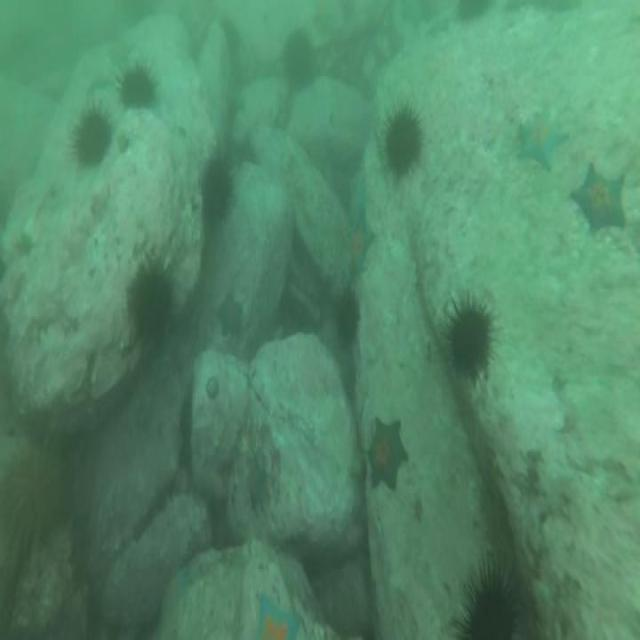echinus: (449, 553, 528, 640), (438, 289, 502, 394), (125, 260, 178, 358), (377, 98, 426, 186), (66, 99, 114, 174), (198, 144, 238, 229), (277, 25, 320, 98), (114, 57, 161, 114), (334, 284, 362, 351), (457, 0, 491, 32)
starfish: (571, 160, 631, 242), (366, 409, 411, 493), (513, 107, 568, 174), (247, 591, 305, 640), (344, 202, 376, 286), (215, 291, 248, 341)
